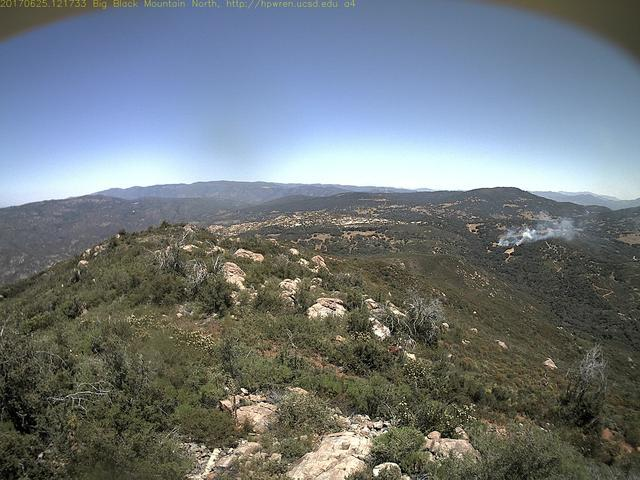smoke: (496, 210, 581, 252)
